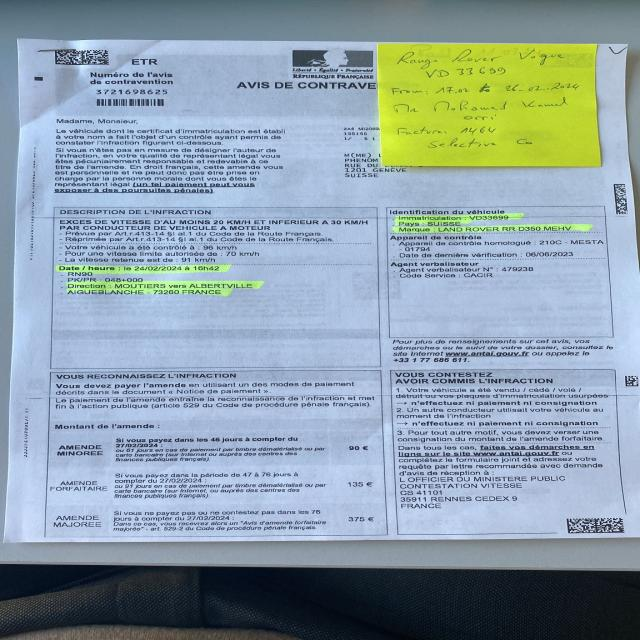paper-document-: (17, 41, 637, 541)
